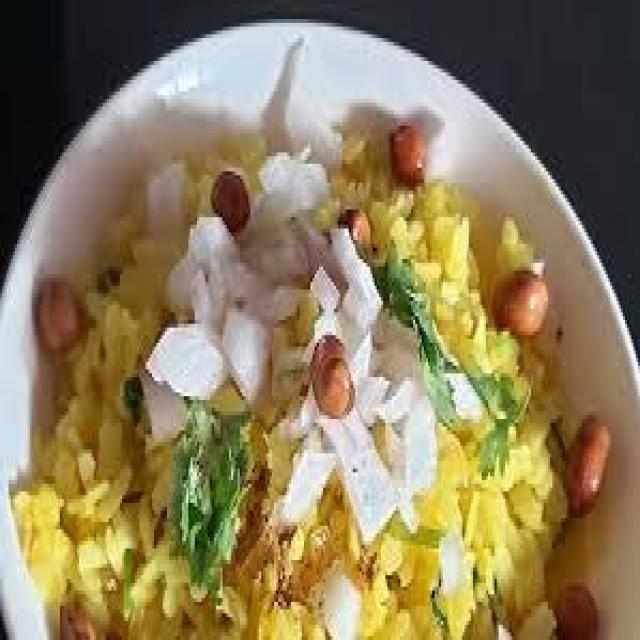POHA: (24, 152, 556, 636)
